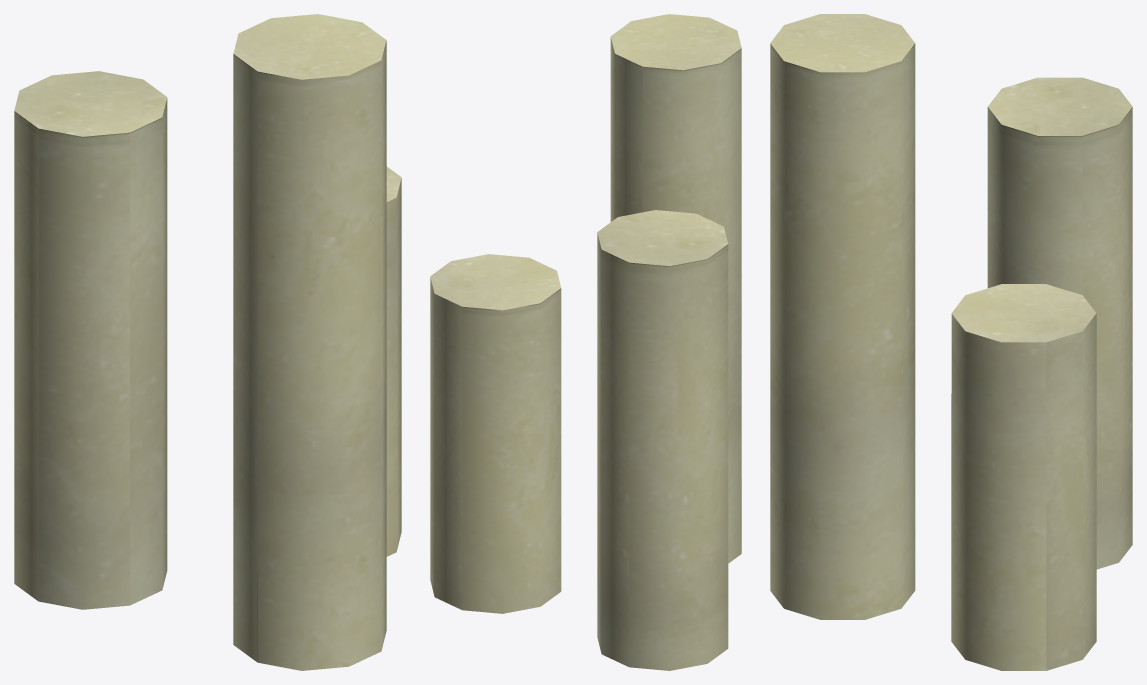
File: last_assets_1.fbx
The picture shows the model from 3 angles, left to right: view 1: azimuth 30°, elevation 25°; view 2: azimuth 150°, elevation 25°; view 3: azimuth 270°, elevation 25°; orthographic projection. The views are drawn at different scales.
Visible parts, largest first — view 1: candles; view 2: candles; view 3: candles.
Boxes of the visible parts, x1,y1,x2,y2 form: candles: (14,14,401,670); candles: (430,14,741,670); candles: (770,14,1132,670).
Size of what is drawn, in the model's own units: 3.04 by 5 by 3.
1 material, 1 textured.
